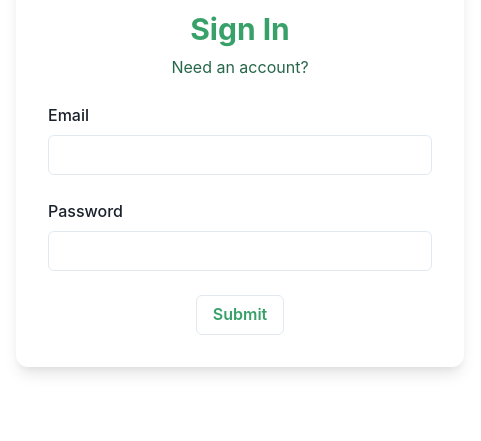
it: invalid username or password
Type "test@test.com" into the field labelled "Email" at point(240, 155), box [48, 135, 432, 175]
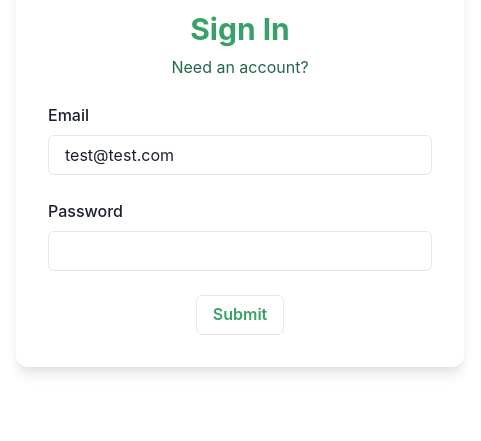
Type "test@test.com" into the password field labelled "Password" at point(240, 251), box [48, 231, 432, 271]
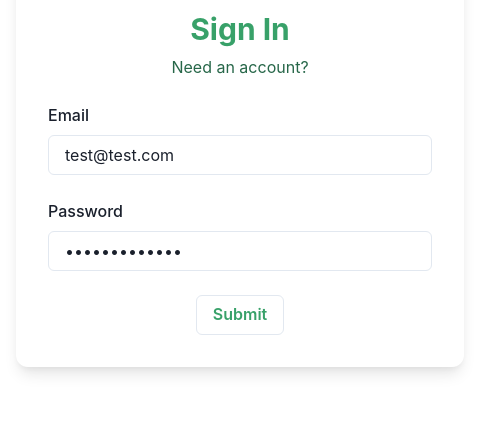
Click the button "Submit" at point(240, 315), box [196, 295, 284, 335]
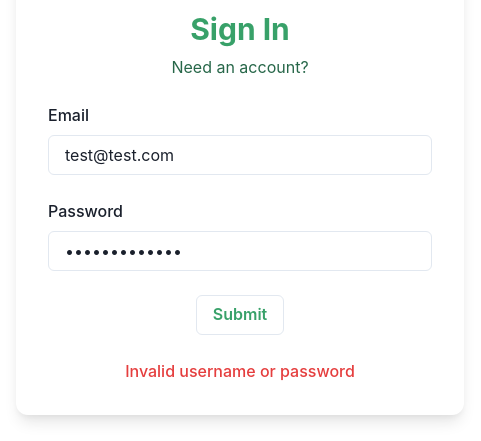
Result: the text "Invalid username or password" is shown at [125, 359, 355, 383]
